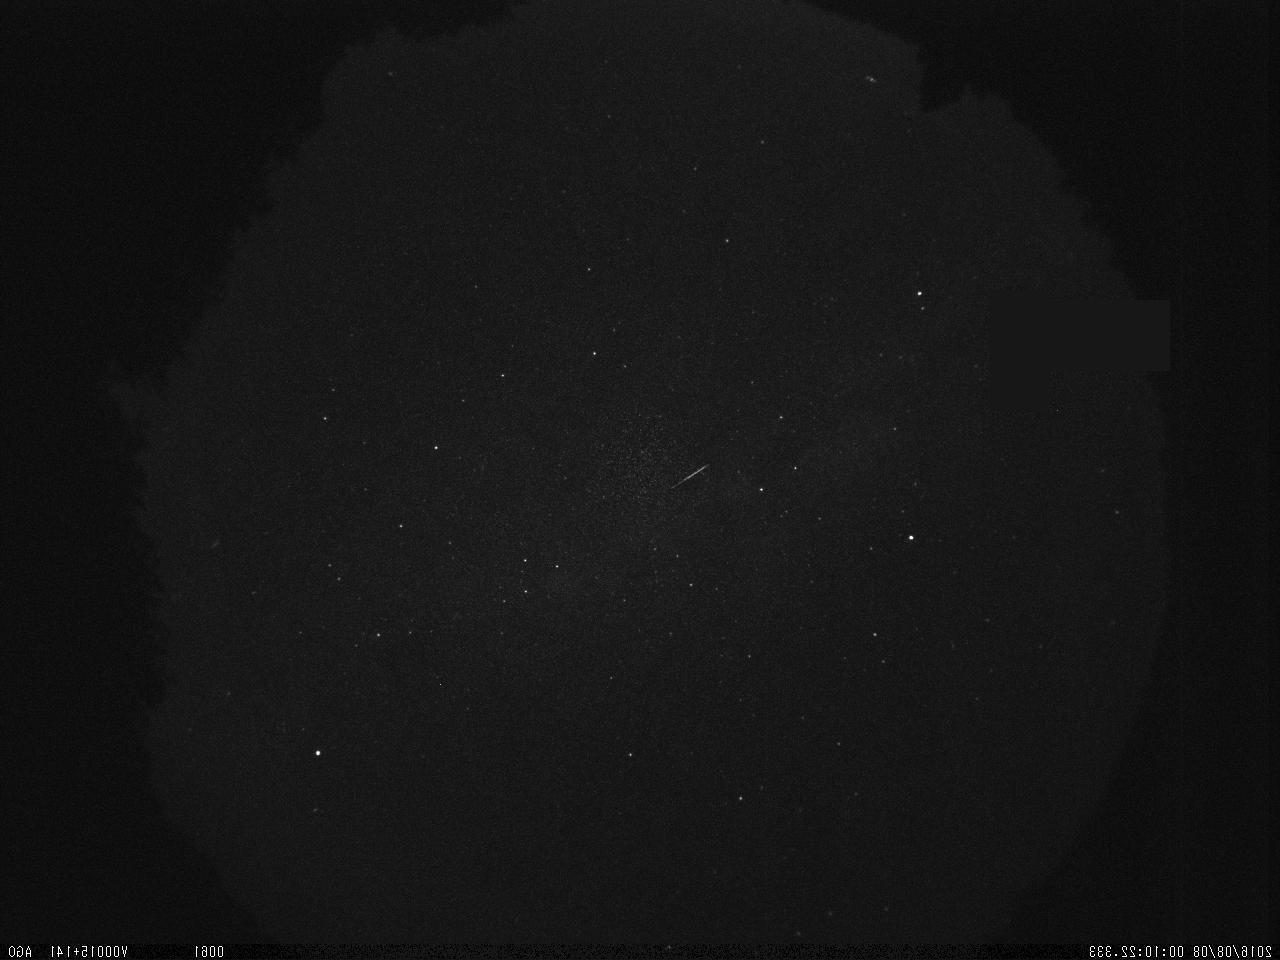meteor: (655, 452, 723, 505)
